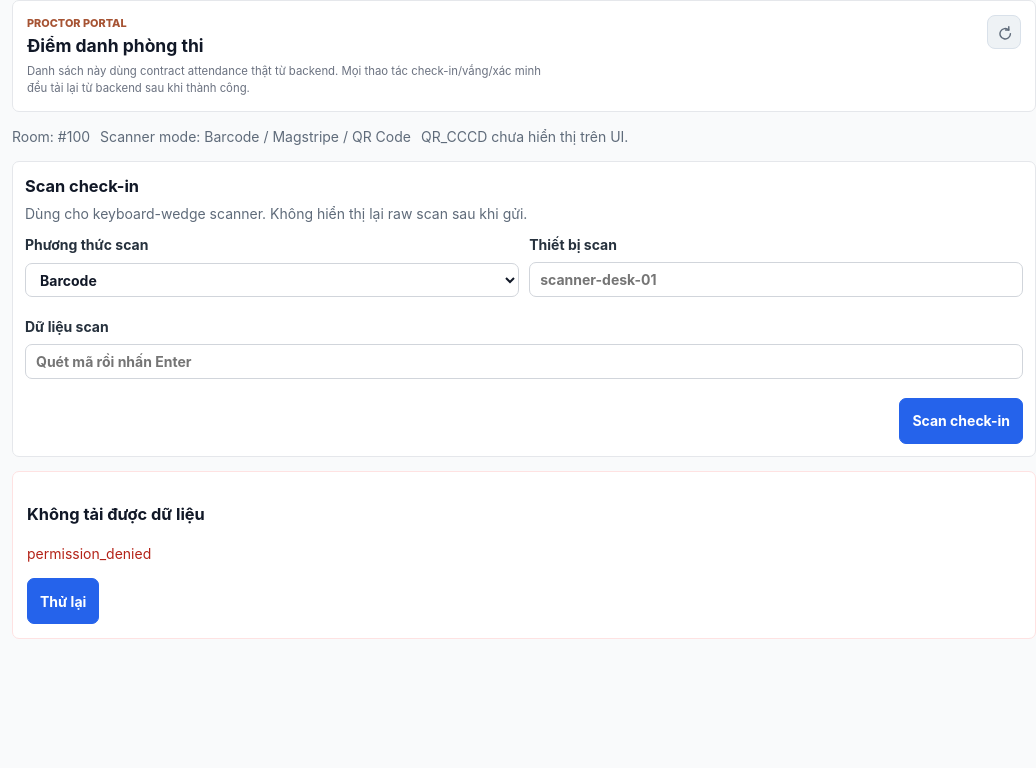
Test: Phase 2B proctor pages › attendance page shows permission error honestly and allows retry
Check: the text "permission_denied" is shown, box [27,545,151,562]
Click the button "Thử lại": (63, 601) [27,578,99,624]
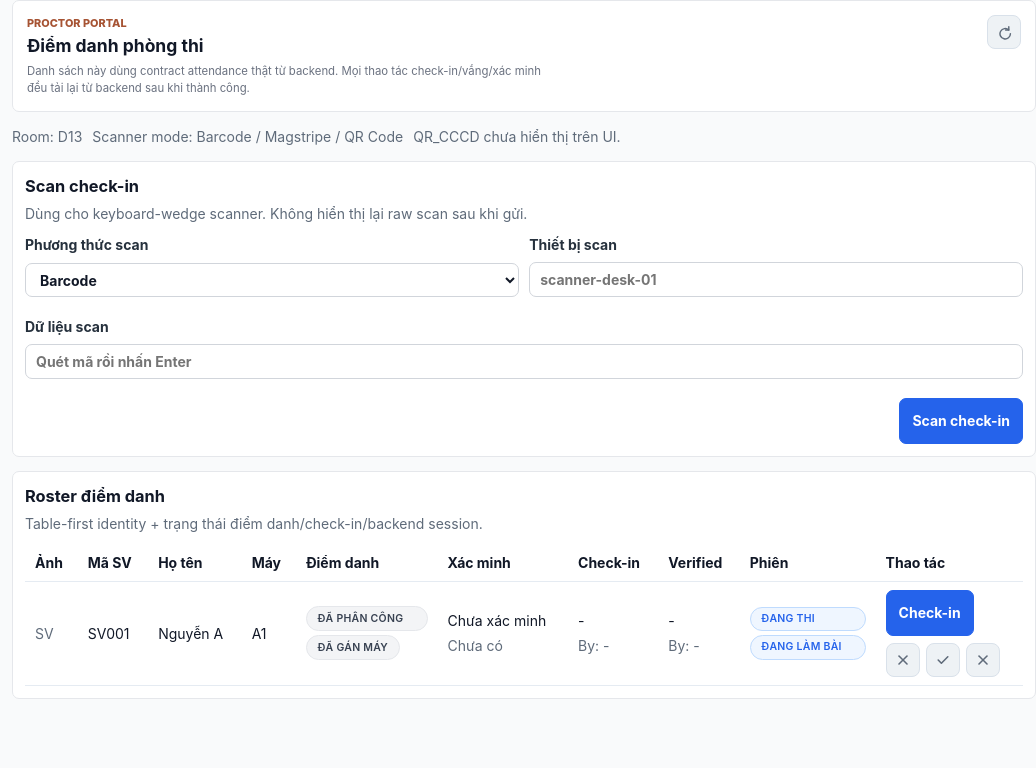
Check: the text "SV001" is shown, box [78,581,148,685]
